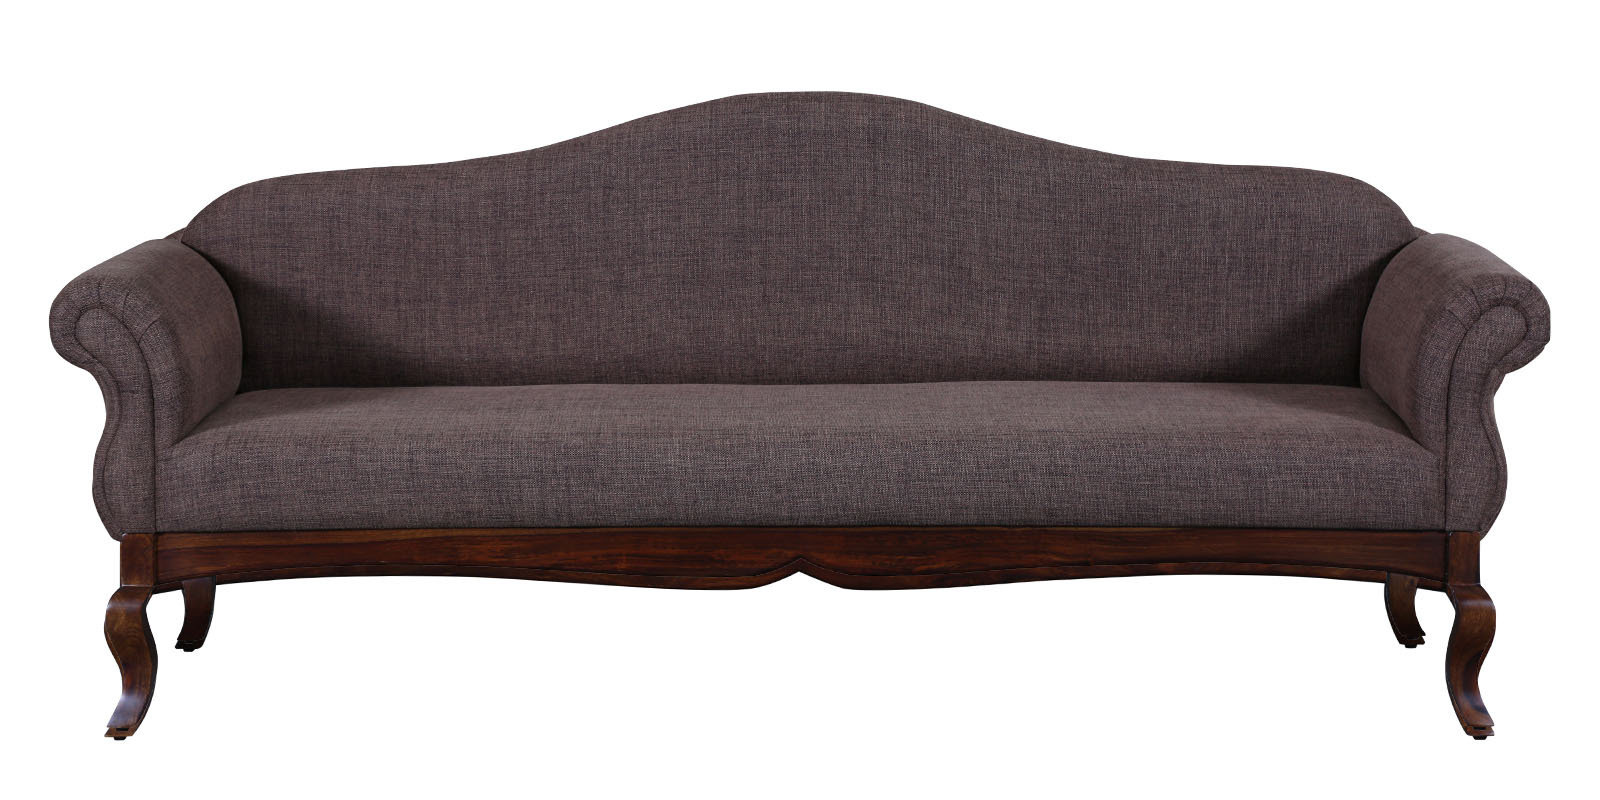Anne Three Seater Sofa in Provincial Teak Finish by Amberville: (21, 84, 1543, 739)
